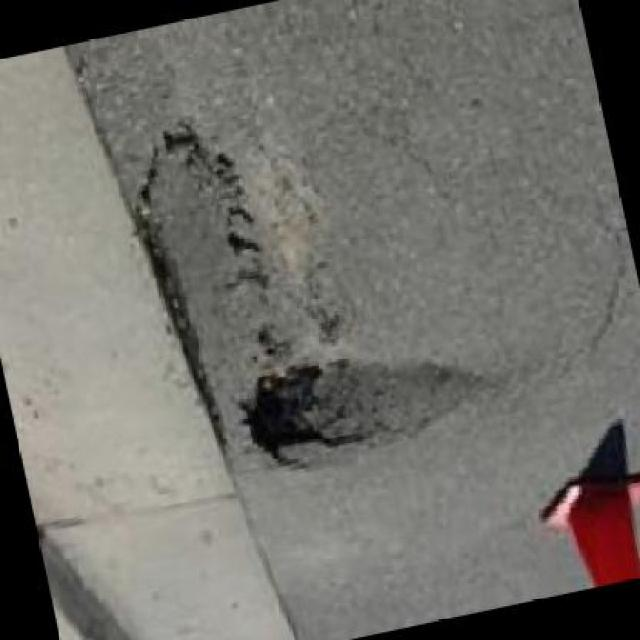pothole: (110, 111, 313, 492), (230, 327, 493, 478)
